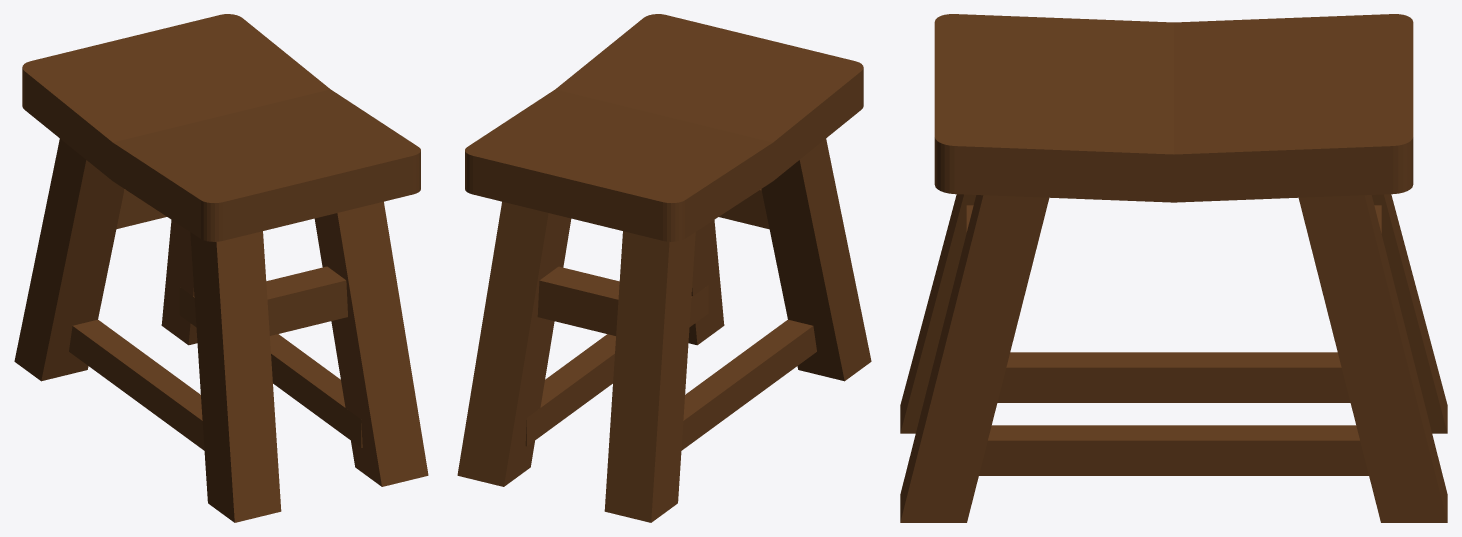
File: Holzstuhl.fbx
The picture shows the model from 3 angles, left to right: view 1: azimuth 30°, elevation 25°; view 2: azimuth 150°, elevation 25°; view 3: azimuth 270°, elevation 25°; orthographic projection. The views are drawn at different scales.
Visible parts, largest first — view 1: HolzStuhl; view 2: HolzStuhl; view 3: HolzStuhl.
Part boxes in pixels (bbox=[...]): HolzStuhl: bbox=[14, 14, 428, 522]; HolzStuhl: bbox=[457, 14, 871, 522]; HolzStuhl: bbox=[900, 14, 1447, 522].
Size of the model in its own units: 47.1 by 64.07 by 82.52.
